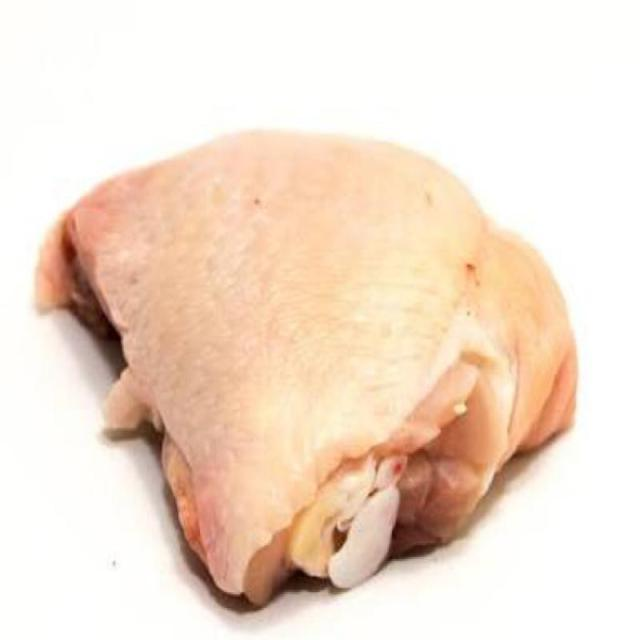thigh: (14, 85, 606, 618)
